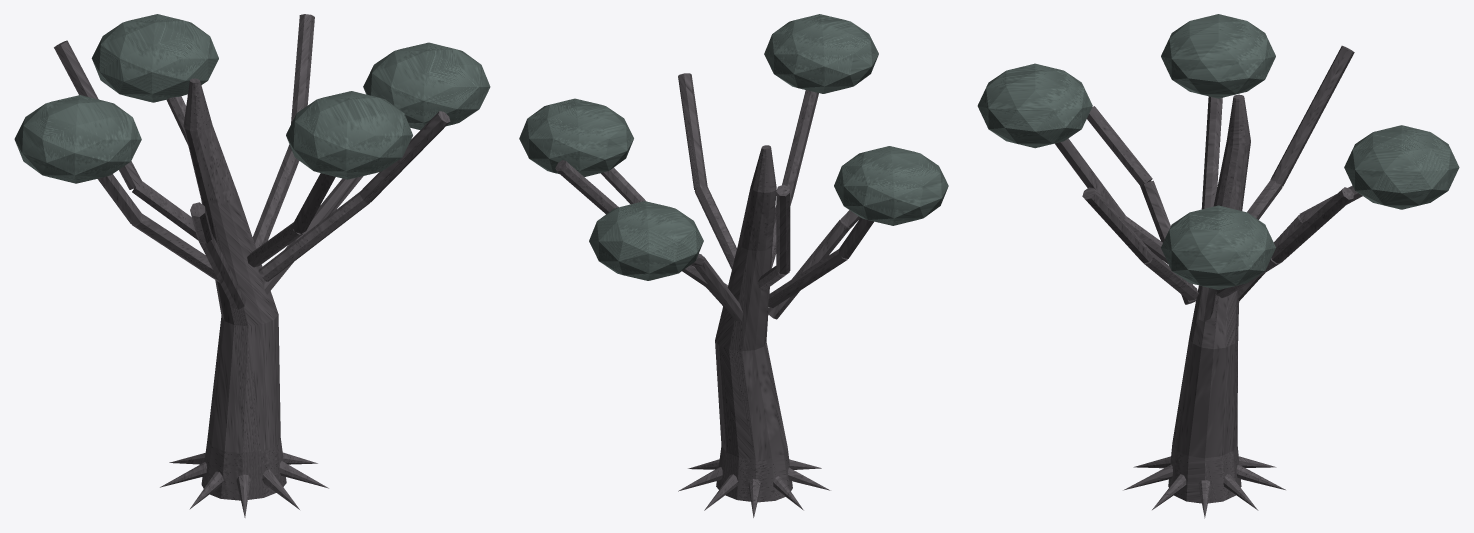
File: gothic_tree.glb
3 views of the same model, side by side, from view 1: azimuth 30°, elevation 25°; view 2: azimuth 150°, elevation 25°; view 3: azimuth 270°, elevation 25° (orthographic). The views are drawn at different scales.
Parts seen in each view (by area): view 1: bark, foliage; view 2: bark, foliage; view 3: bark, foliage.
Part boxes in pixels (x1,y1,x2,y2): bark: (54,14,450,517); foliage: (14,14,490,183); bark: (555,73,873,517); foliage: (519,14,948,280); bark: (1055,45,1362,518); foliage: (977,14,1459,289).
Size of the model in its own units: 7.4 by 6.85 by 7.1.
Materials: 2 (2 with a texture image).
